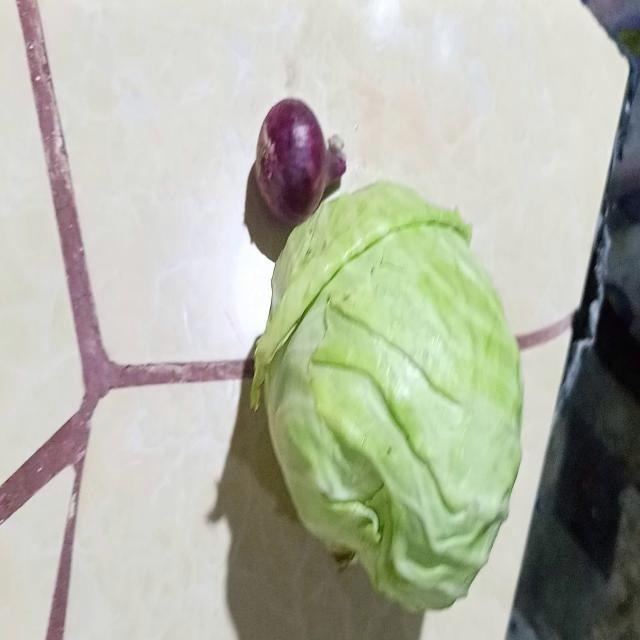cabbage: (256, 183, 523, 614)
onion: (253, 99, 346, 228)
